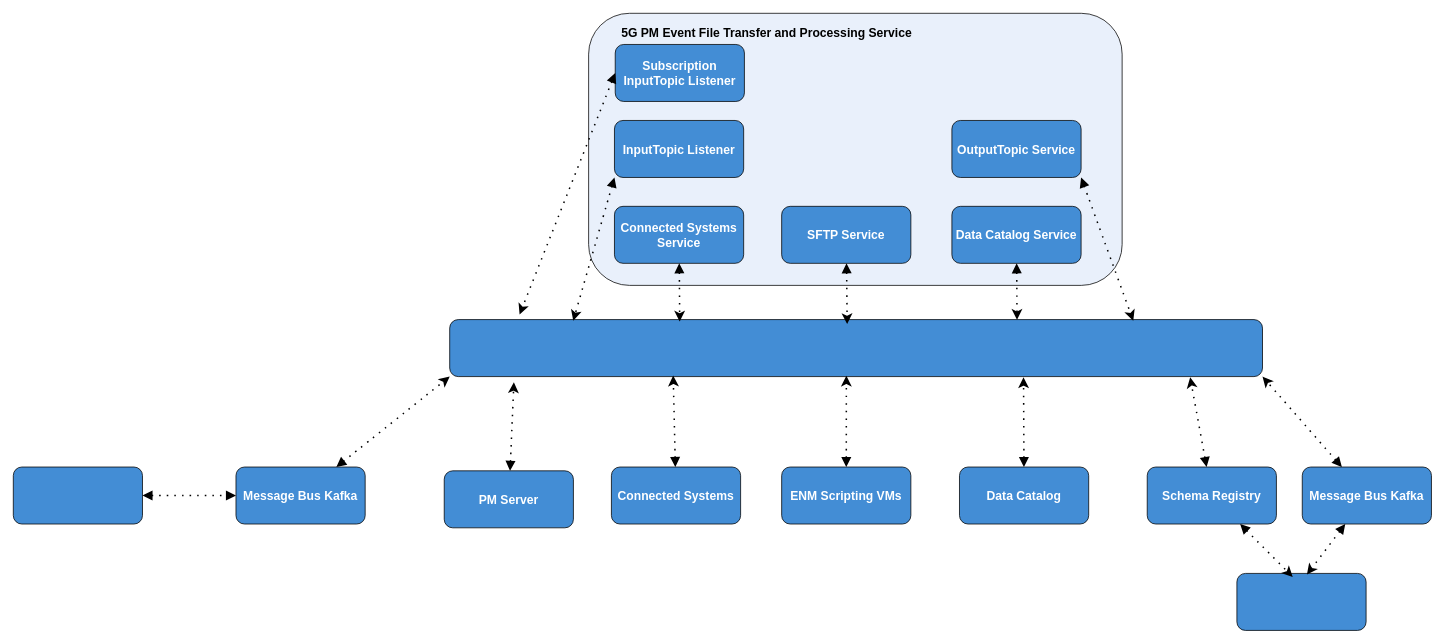
Some shapes in this 1445 by 644 pixel diagram are drawn without their labels. The box of each missing label's shape, as (x1, y1, x2, y2) in pixels:
5G Event Consumer: (1236, 573, 1366, 630)
File Notification Service: (13, 466, 142, 524)
Service Mesh: (449, 319, 1263, 377)
